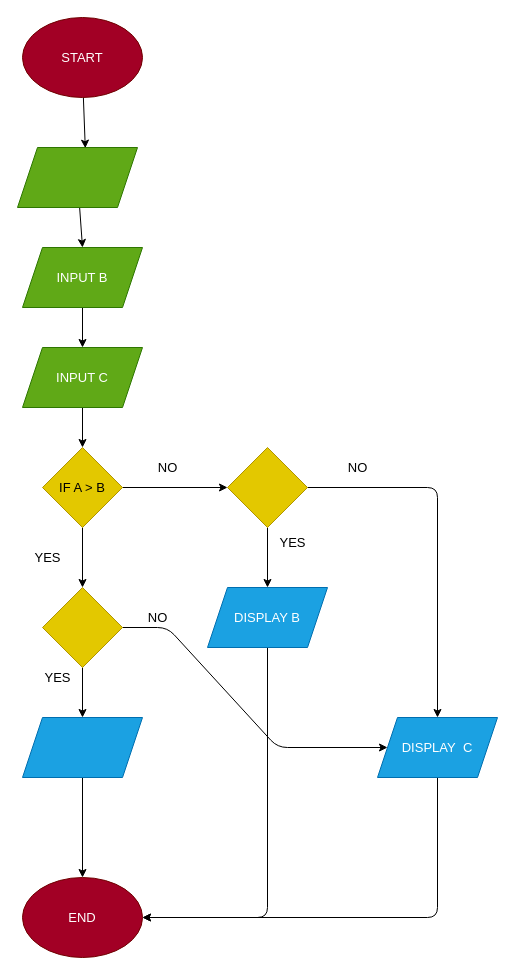
This 515x975 diagram has some shape labels left out. Each missing label, with the centre of its shape:
"DISPLAY A" belongs at [82,747].
"IF A > C" belongs at [82,627].
"IF B > C" belongs at [267,487].
"INPUT A" belongs at [77,177].
